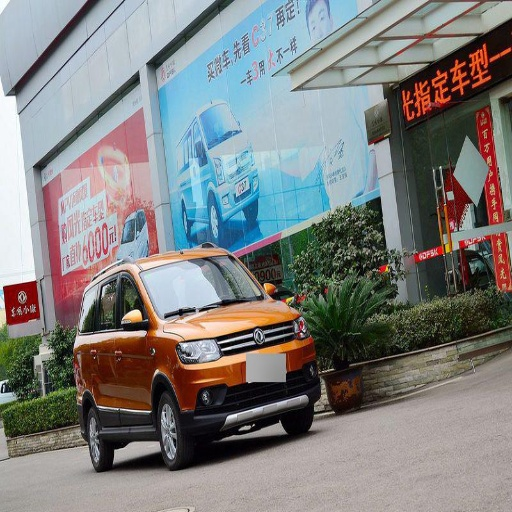front_bumper: (181, 321, 314, 430)
front_right_door: (107, 269, 149, 421)
